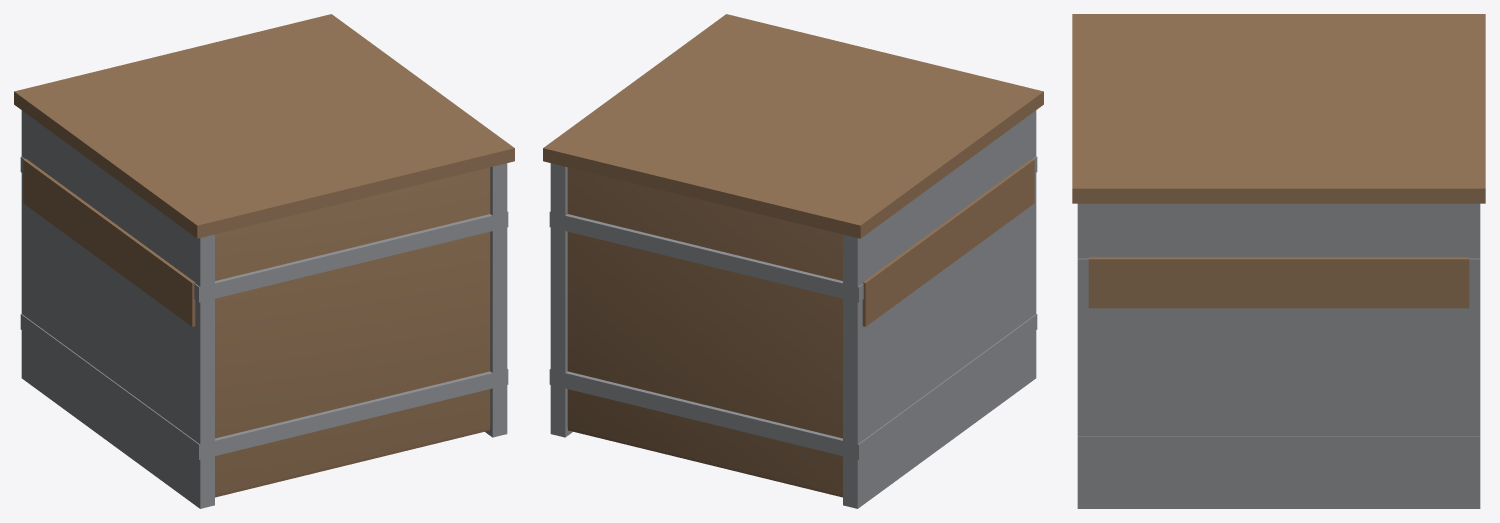
Rendered from PR_crate_wood.fbx.
The picture shows the model from 3 angles, left to right: view 1: azimuth 30°, elevation 25°; view 2: azimuth 150°, elevation 25°; view 3: azimuth 270°, elevation 25°; orthographic projection. The views are drawn at different scales.
Visible parts, largest first — view 1: PR_crate_wood; view 2: PR_crate_wood; view 3: PR_crate_wood.
Part boxes in pixels (<box>): PR_crate_wood: <box>14,14,514,508</box>; PR_crate_wood: <box>543,14,1043,508</box>; PR_crate_wood: <box>1072,14,1485,508</box>.
Size of the model in its own units: 0.76 by 0.655 by 0.76.
